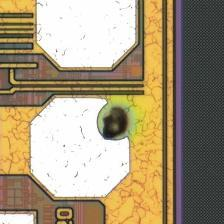BLOCK ETCH: (92, 94, 148, 150)
